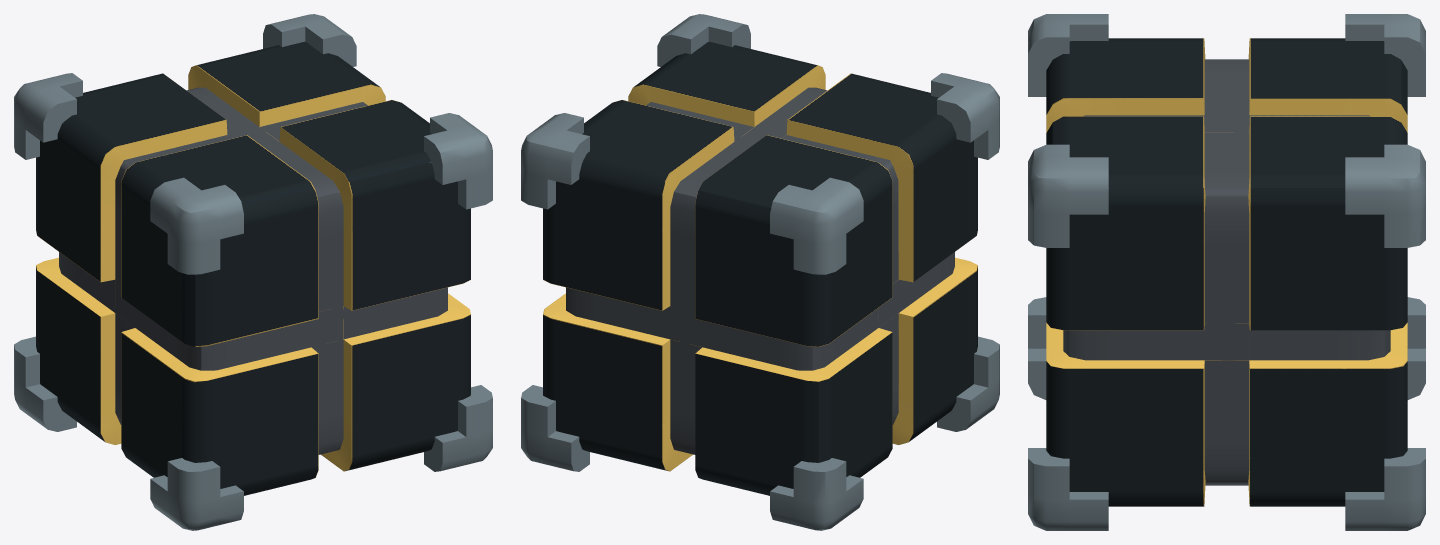
Rendered from PowerCubeAfterTexture.fbx.
The picture shows the model from 3 angles, left to right: view 1: azimuth 30°, elevation 25°; view 2: azimuth 150°, elevation 25°; view 3: azimuth 270°, elevation 25°; orthographic projection. The views are drawn at different scales.
Visible parts, largest first — view 1: PowerCube; view 2: PowerCube; view 3: PowerCube.
Boxes of the visible parts, left/top/right/bottom form: PowerCube: left=14, top=14, right=492, bottom=530; PowerCube: left=521, top=14, right=999, bottom=530; PowerCube: left=1028, top=14, right=1425, bottom=530.
Bounding box in the file's own units: 200 × 200 × 198.
Materials: 1 (1 with a texture image).
